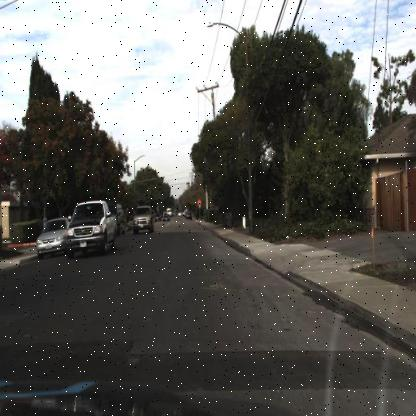car: (63, 198, 121, 259), (35, 212, 77, 260), (130, 200, 155, 238)
